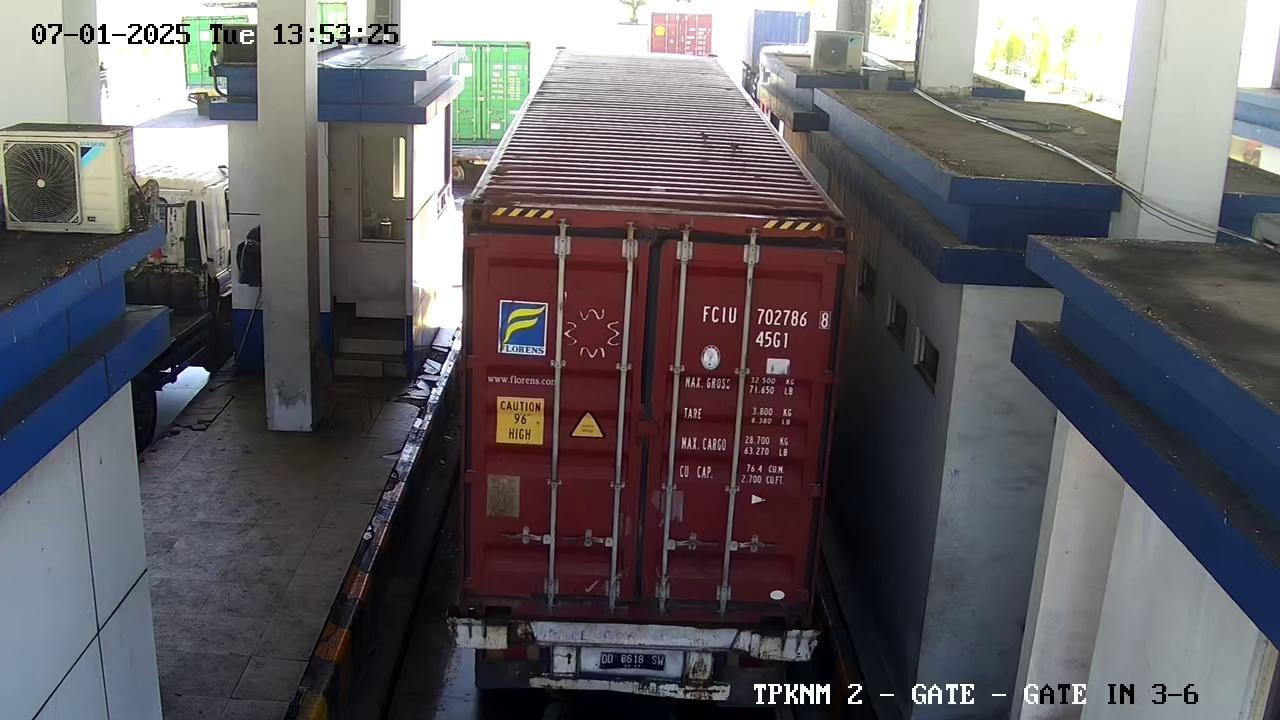Container_ID: (690, 298, 840, 332)
plate_number: (586, 646, 675, 680)
